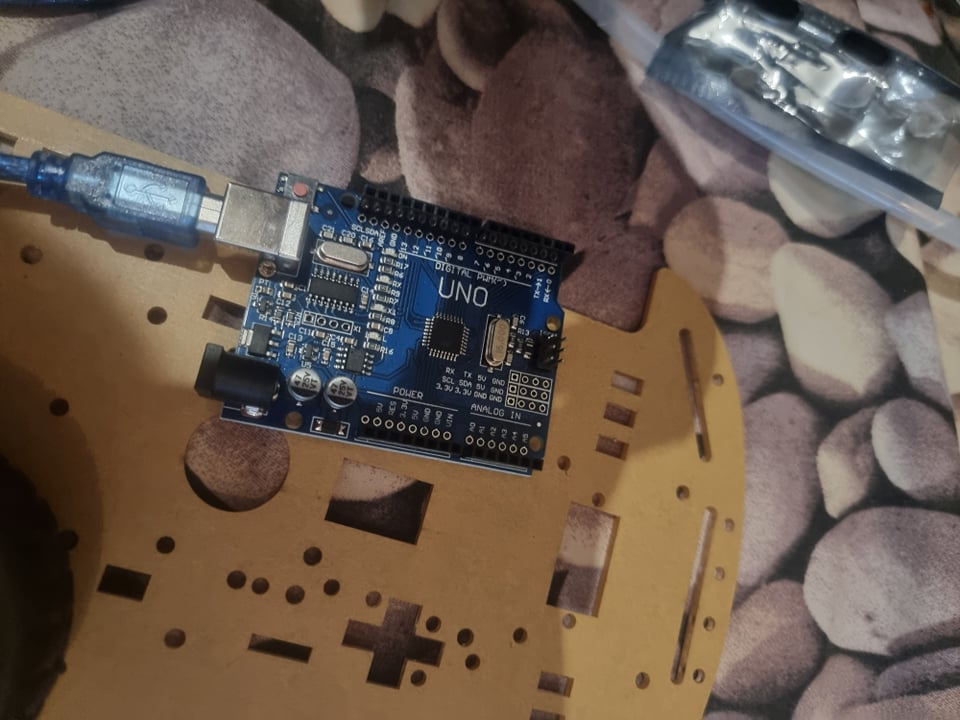UNO R3: (193, 156, 576, 484)
